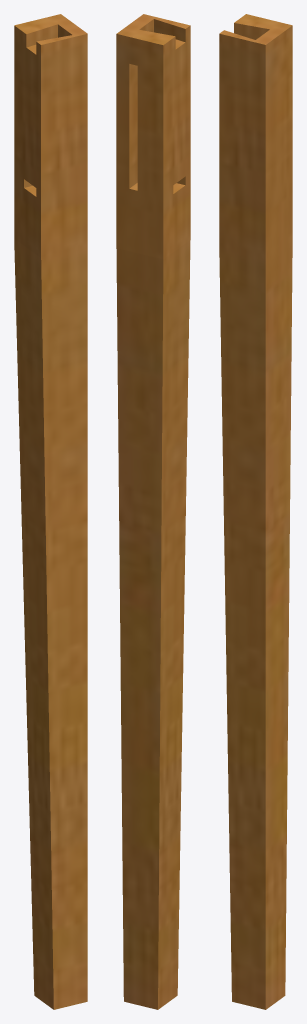
The model's file is original-17.obj.
3 renders of one model, left to right at view 1: azimuth 30°, elevation 25°; view 2: azimuth 150°, elevation 25°; view 3: azimuth 330°, elevation 25°, orthographic.
Parts seen in each view (by area): view 1: Group18/mesh34/mesh34-geometry#mesh34-geometry; view 2: Group18/mesh34/mesh34-geometry#mesh34-geometry; view 3: Group18/mesh34/mesh34-geometry#mesh34-geometry.
Boxes of the visible parts, x1,y1,x2,y2 form: Group18/mesh34/mesh34-geometry#mesh34-geometry: (14, 14, 87, 1009); Group18/mesh34/mesh34-geometry#mesh34-geometry: (116, 14, 190, 1009); Group18/mesh34/mesh34-geometry#mesh34-geometry: (219, 14, 292, 1009).
Size of the model in its own units: 0.0539 by 1.07 by 0.0539.
